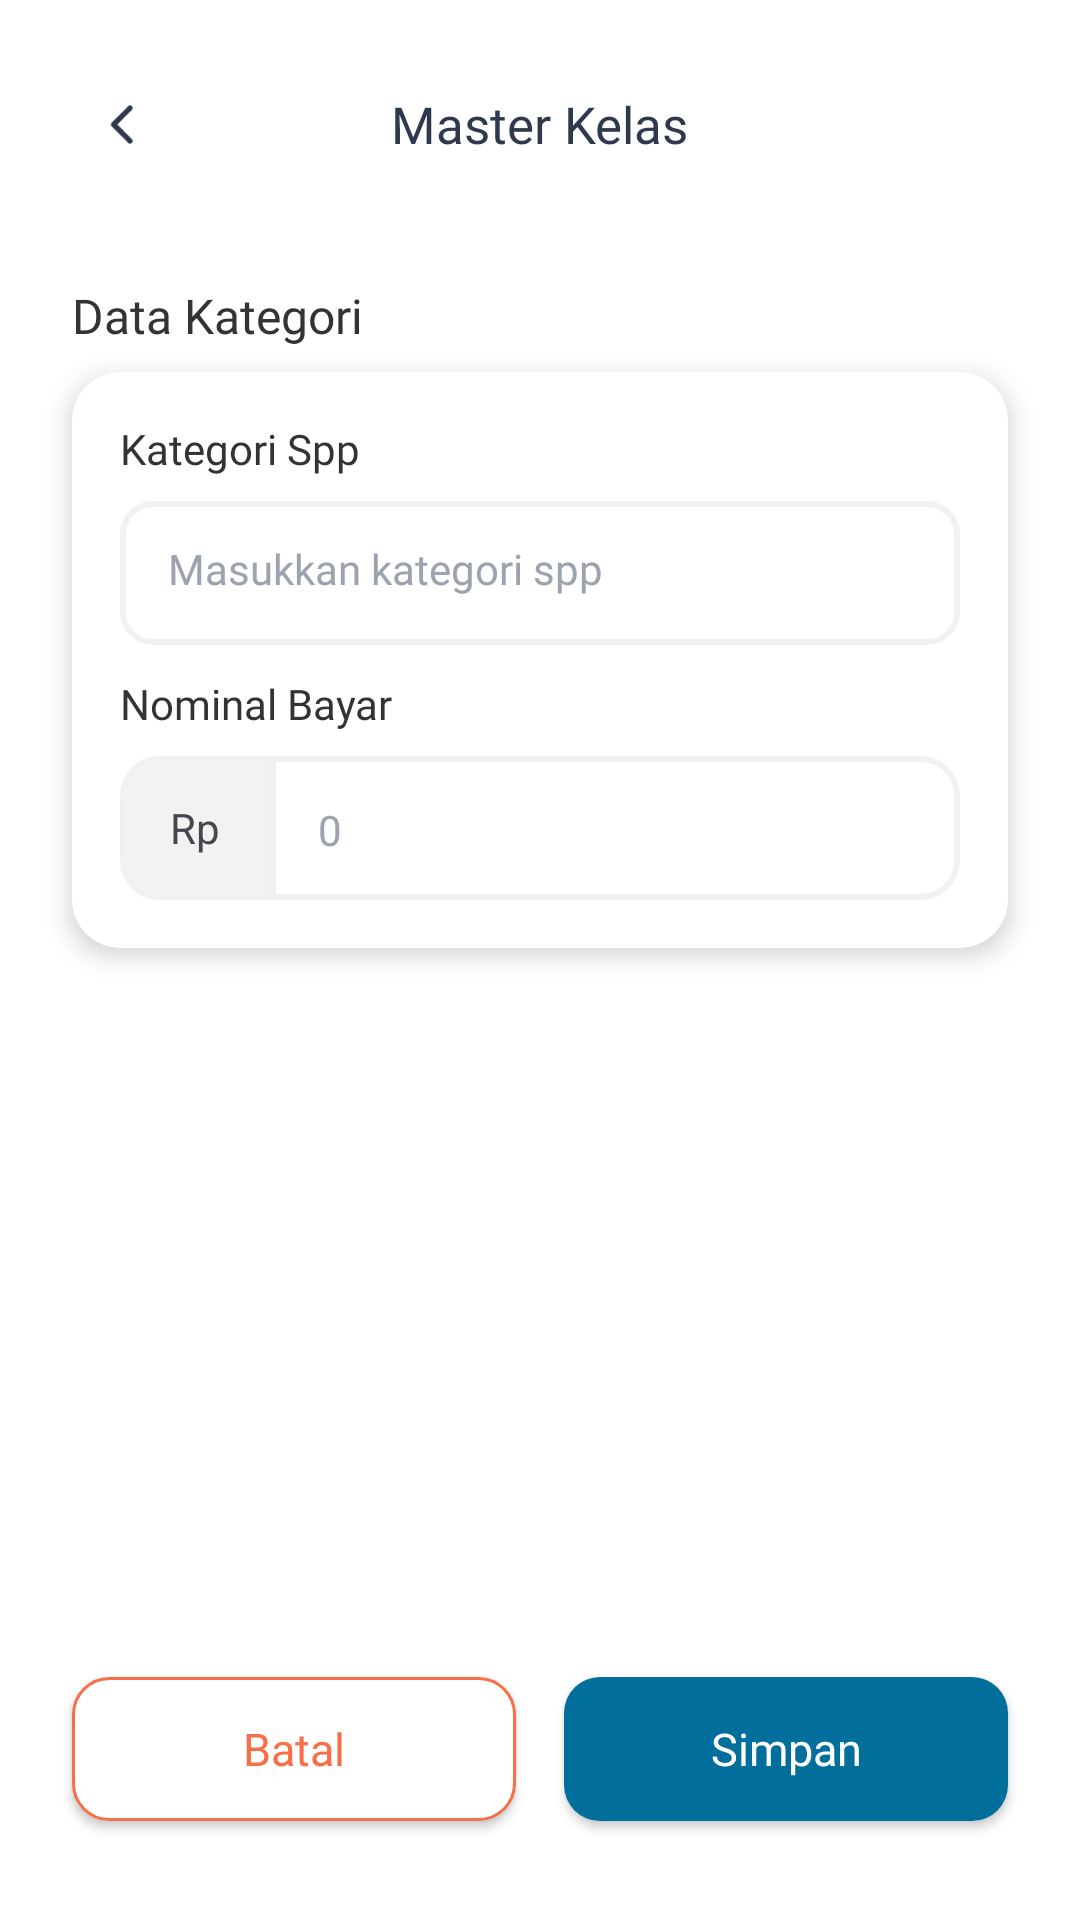

Named icons in this screenshot (1080 x 1920) and their bounding boxes, rect(x1, y1, x2, y2):
chevron back: rect(110, 105, 133, 144)
